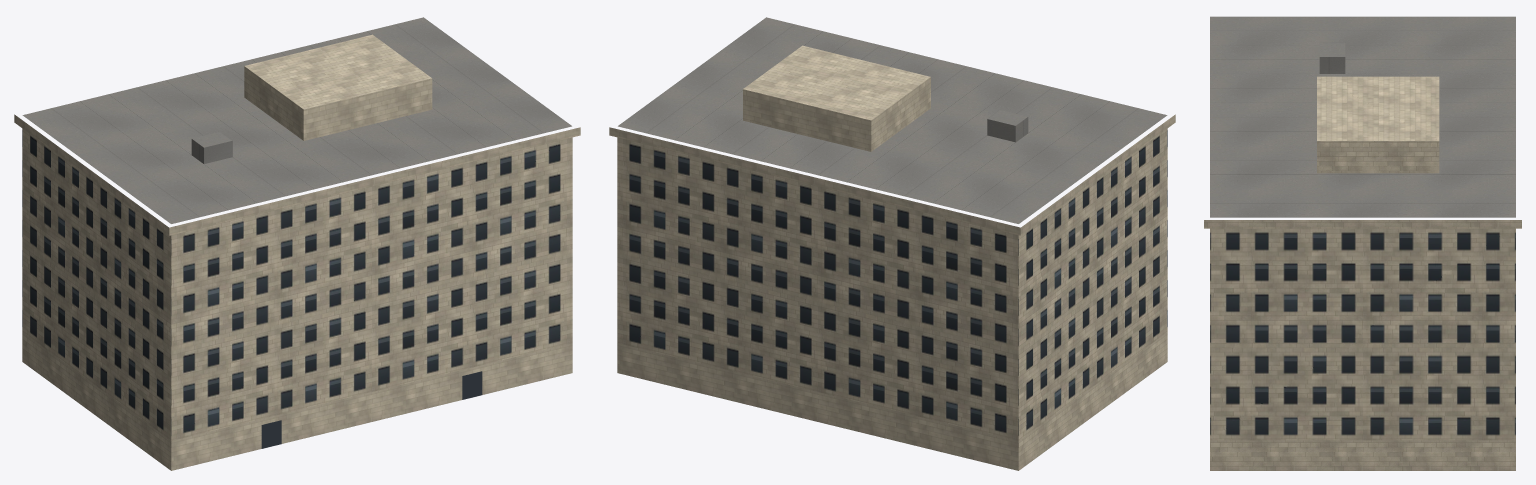
The model's file is dc_fed_plain.glb.
3 views of the same model, side by side, from view 1: azimuth 30°, elevation 25°; view 2: azimuth 150°, elevation 25°; view 3: azimuth 270°, elevation 25° (orthographic). The views are drawn at different scales.
Visible parts, largest first — view 1: dc_fed_plain; view 2: dc_fed_plain; view 3: dc_fed_plain.
Part boxes in pixels (x1,y1,x2,y2): dc_fed_plain: [14, 17, 580, 470]; dc_fed_plain: [609, 17, 1175, 470]; dc_fed_plain: [1204, 16, 1521, 470].
Size of the model in its own units: 57.4 by 37.1 by 37.4.
Materials: 5 (5 with a texture image).
